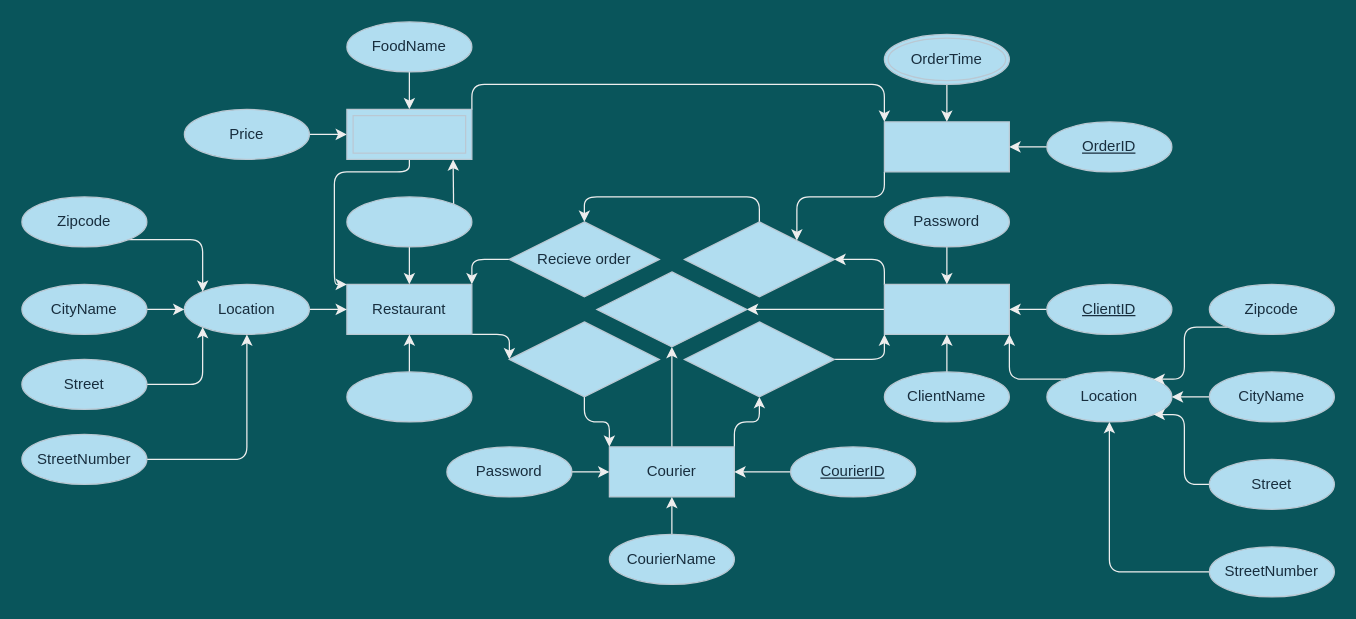
The diagram is 1356 pixels wide and 619 high, and some of its shapes have lost their labels. The shapes that lost their labels are listed below. From the top down, each one's centre as x and y in pixels, then its label:
pixel 409 133: Food
pixel 946 146: Order
pixel 409 221: RestaurantID
pixel 758 259: Give order
pixel 671 309: Login / Register in App
pixel 946 308: Client
pixel 583 359: Make the order give it to courier
pixel 758 359: Deliver the order
pixel 409 396: RestaurantName
